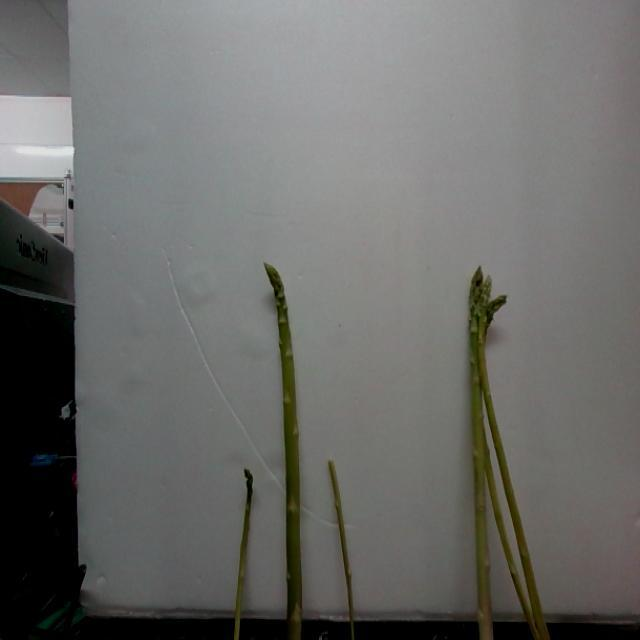aspargus: (265, 265, 305, 640)
